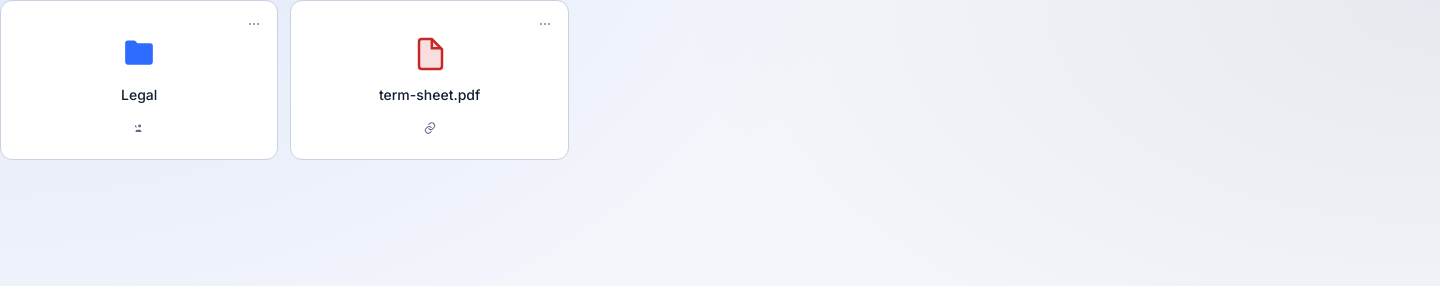
Test: DriveItemList grid cards › shows rename when the user can write
Click the button named "File actions". click: click(545, 24)
box: [527,6,563,42]
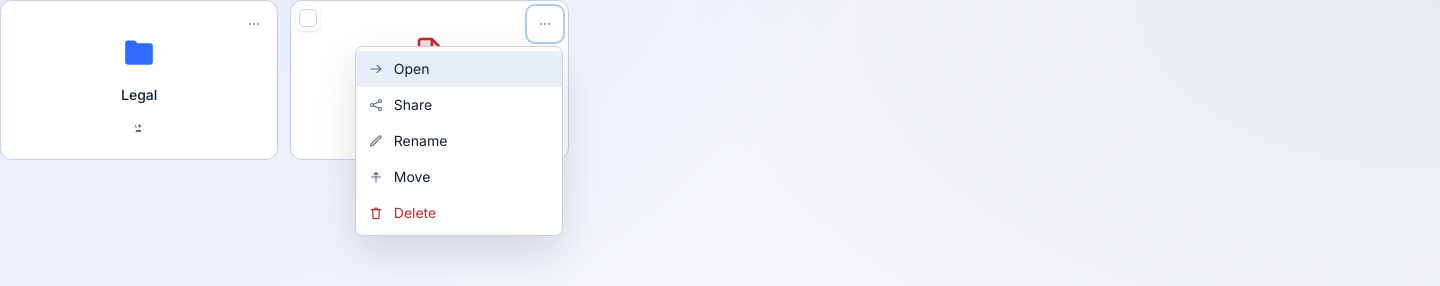
Check: the menu item "Rename" is shown, box [356,123,562,159]
